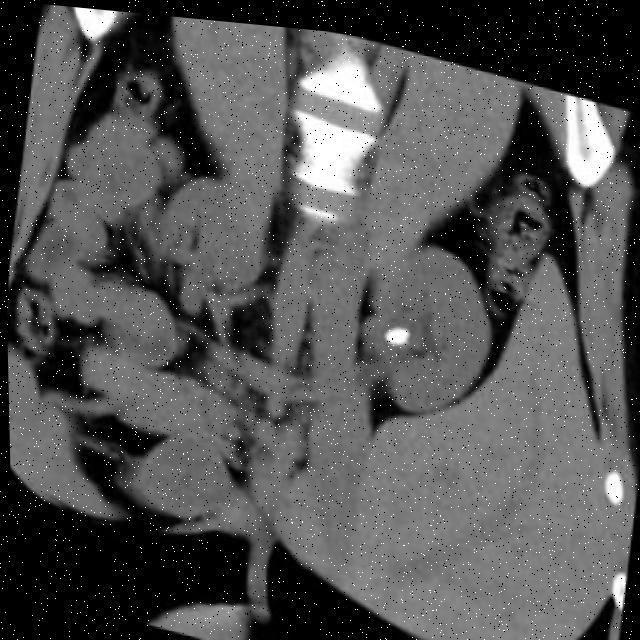Tas_Var: (381, 311, 411, 346)
